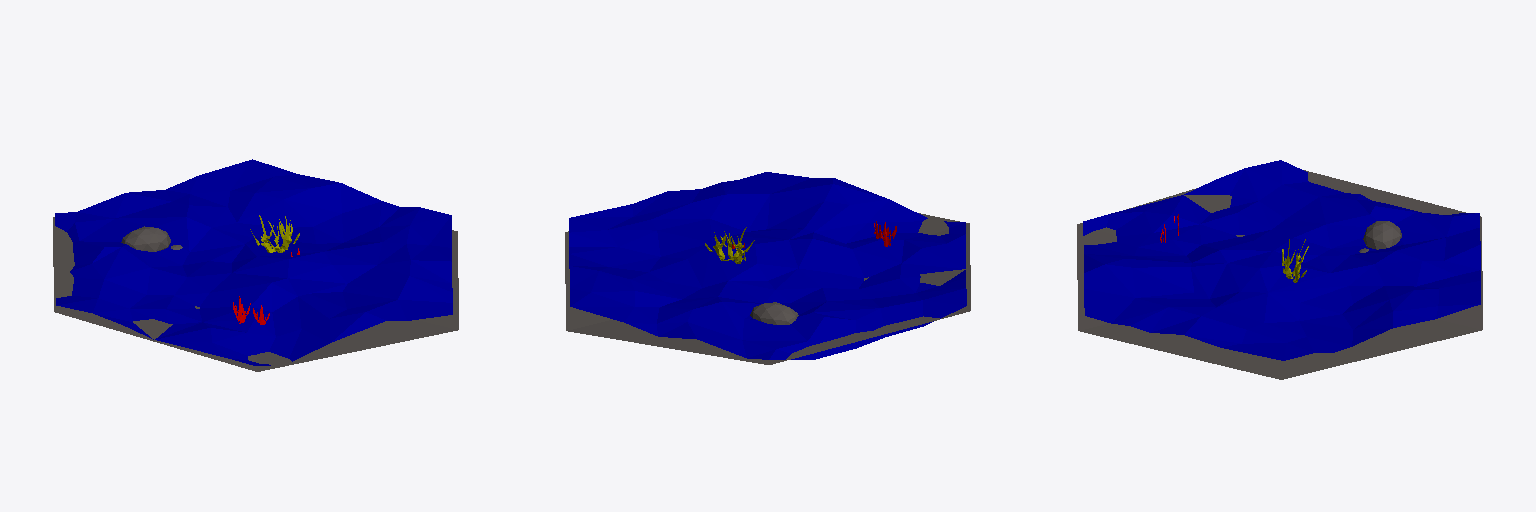
File: recif1.obj
3 renders of one model, left to right at view 1: azimuth 30°, elevation 25°; view 2: azimuth 150°, elevation 25°; view 3: azimuth 270°, elevation 25°, orthographic.
Visible parts, largest first — view 1: Circle.002; view 2: Circle.002; view 3: Circle.002.
Part boxes in pixels (x1,y1,x2,y2): Circle.002: (53, 159, 458, 371); Circle.002: (565, 172, 970, 364); Circle.002: (1077, 160, 1482, 379).
Bounding box in the file's own units: 1.96 × 0.2613 × 1.7.